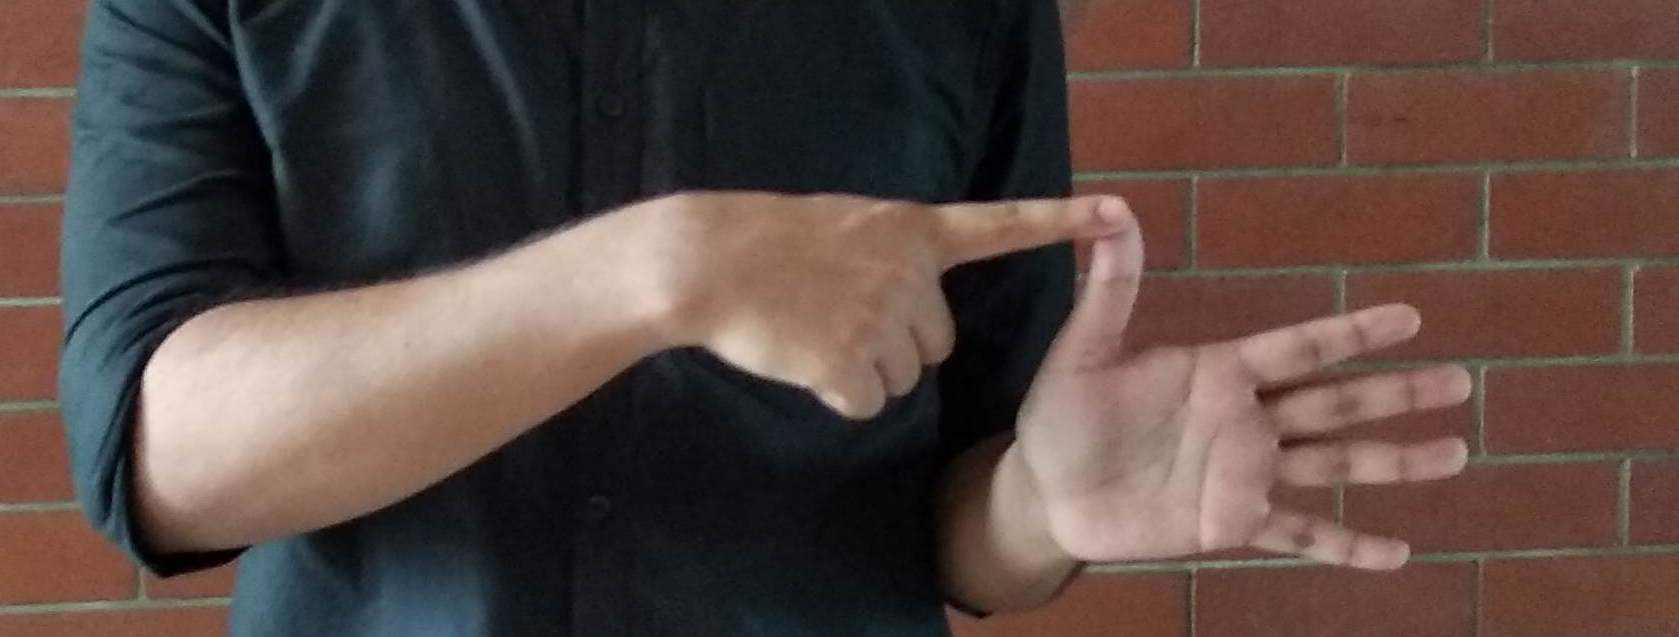a: (662, 188, 1522, 603)
